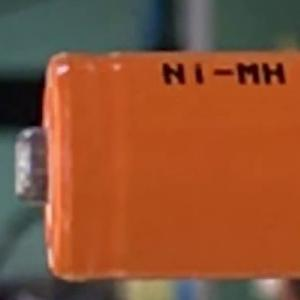NI-MH: (153, 53, 295, 94)
